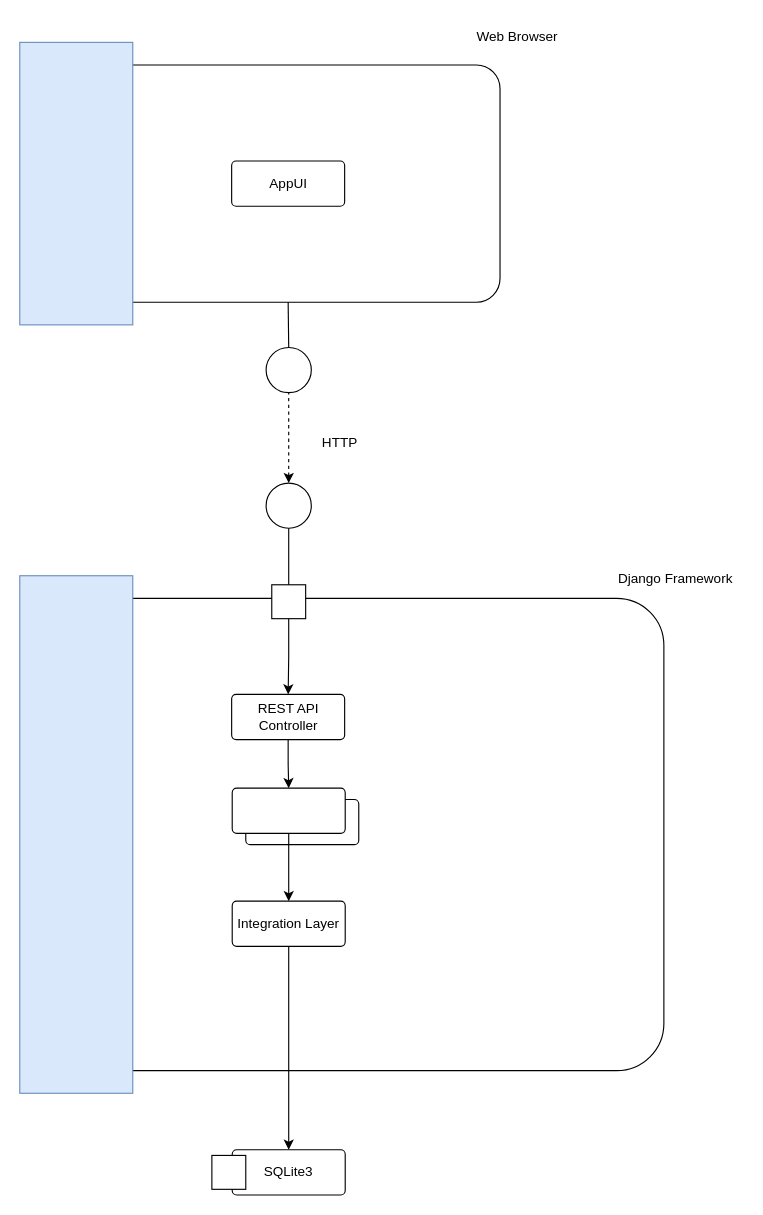
Some shapes in this 763 by 1215 pixel diagram are drawn without their labels. Each missing label, with the box of its shape:
Microservices: (231, 787, 345, 833)
ReactJS: (75, 64, 500, 302)
